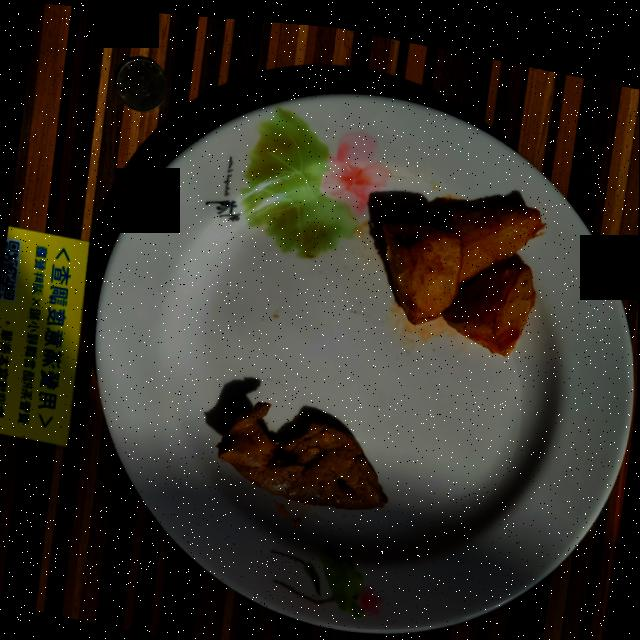coin: (115, 54, 168, 109)
fried potato: (382, 194, 544, 346)
pig liver: (218, 397, 388, 503)
